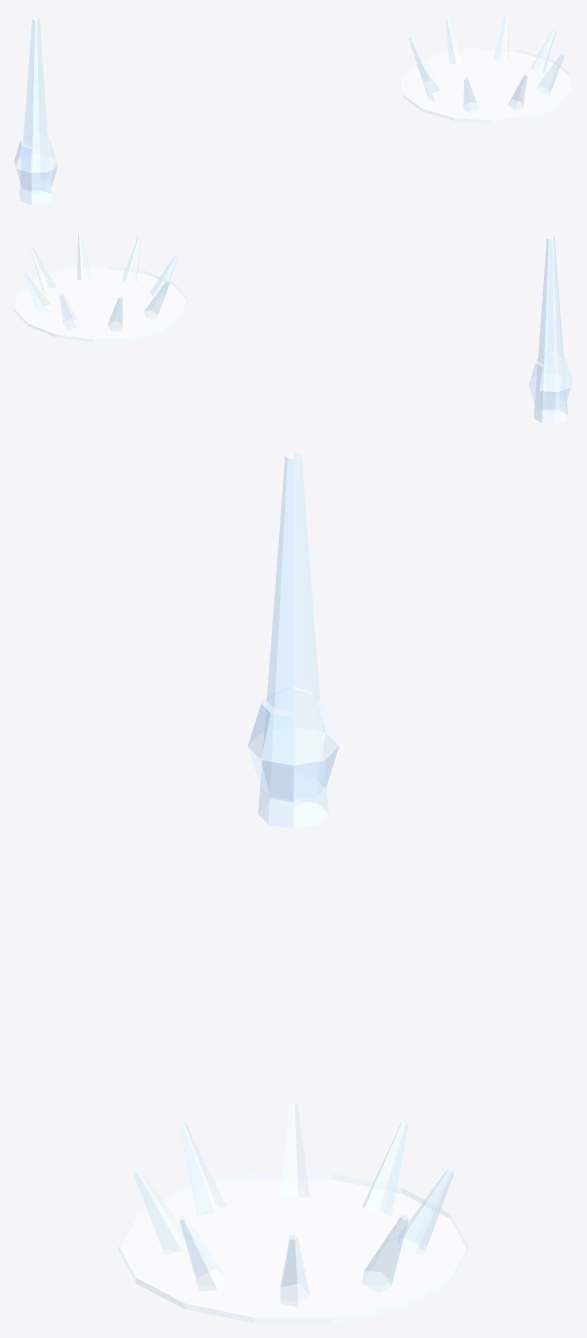
File: efectos2.glb
3 renders of one model, top to bottom at view 1: azimuth 30°, elevation 25°; view 2: azimuth 150°, elevation 25°; view 3: azimuth 270°, elevation 25°, orthographic. The views are drawn at different scales.
Parts seen in each view (by area): view 1: lluvia_salpicadura, gota; view 2: lluvia_salpicadura, gota; view 3: lluvia_salpicadura, gota.
Part boxes in pixels (left/top/right/bottom): lluvia_salpicadura: left=400, top=14, right=572, bottom=123; gota: left=14, top=17, right=57, bottom=204; lluvia_salpicadura: left=14, top=233, right=186, bottom=342; gota: left=529, top=236, right=572, bottom=423; lluvia_salpicadura: left=118, top=1104, right=468, bottom=1323; gota: left=248, top=452, right=338, bottom=828.
Size of the model in its own units: 3.02 by 0.95 by 0.84.
